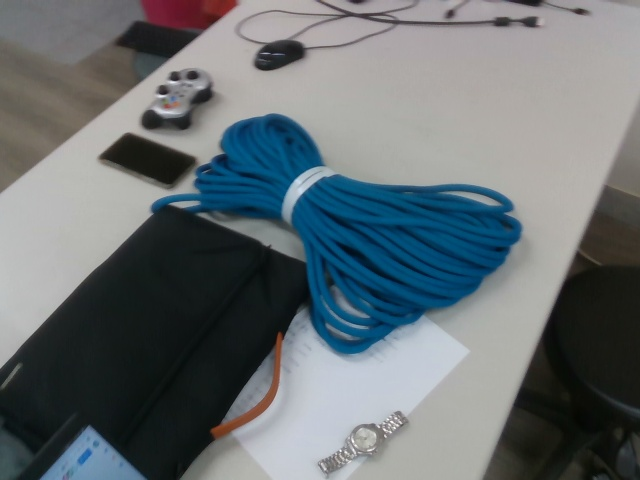rope: (147, 112, 527, 358)
